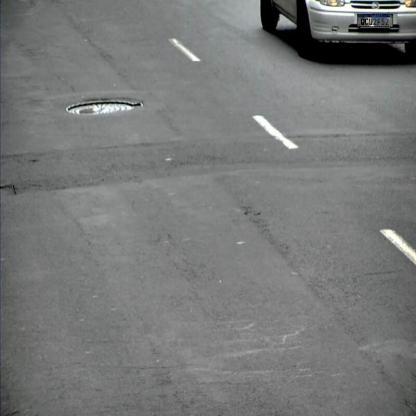PlacaM: (357, 14, 393, 27)
